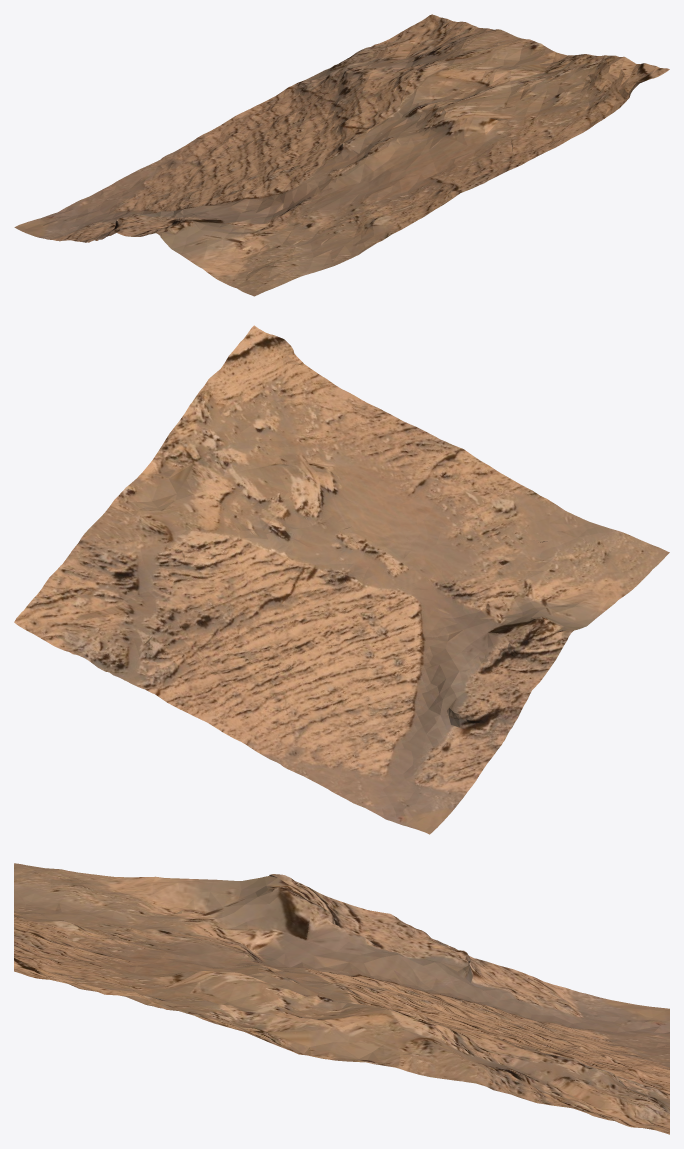
3 views of the same model, one above another, from view 1: azimuth 30°, elevation 25°; view 2: azimuth 150°, elevation 25°; view 3: azimuth 270°, elevation 25° (orthographic). The views are drawn at different scales.
Bounding box in the file's own units: 2.09 × 1.11 × 2.09.
3 materials, 3 textured.
